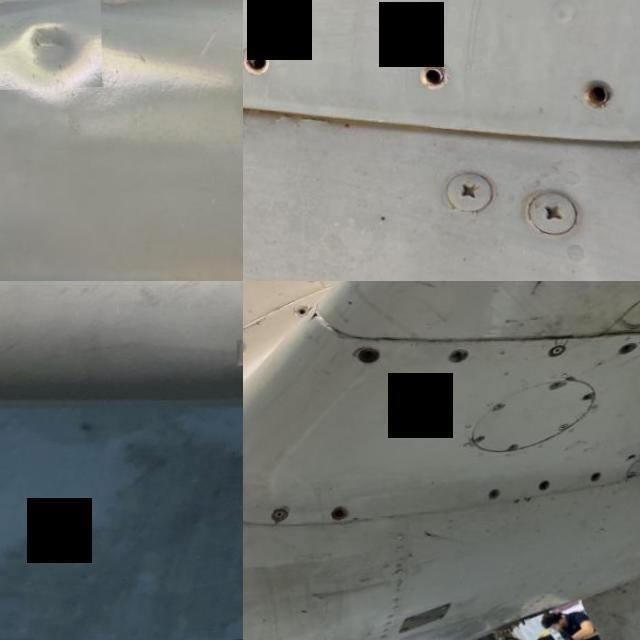Crack: (243, 309, 276, 335), (306, 314, 326, 323)
Dent: (0, 1, 100, 92)
Missing_Fastener: (404, 49, 463, 106), (569, 68, 624, 128), (243, 28, 285, 92), (354, 348, 382, 365), (326, 506, 350, 523), (446, 352, 474, 366), (616, 347, 638, 357), (294, 307, 308, 317), (590, 475, 602, 485), (538, 483, 548, 494)
